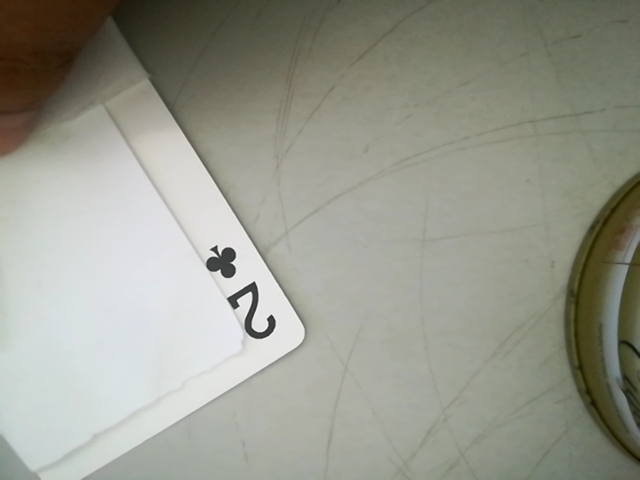mh 2: (204, 227, 277, 355)
